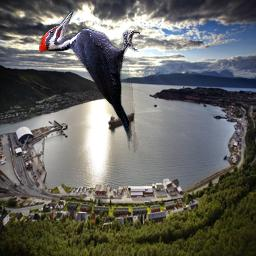Woodpecker: (39, 10, 140, 153)
